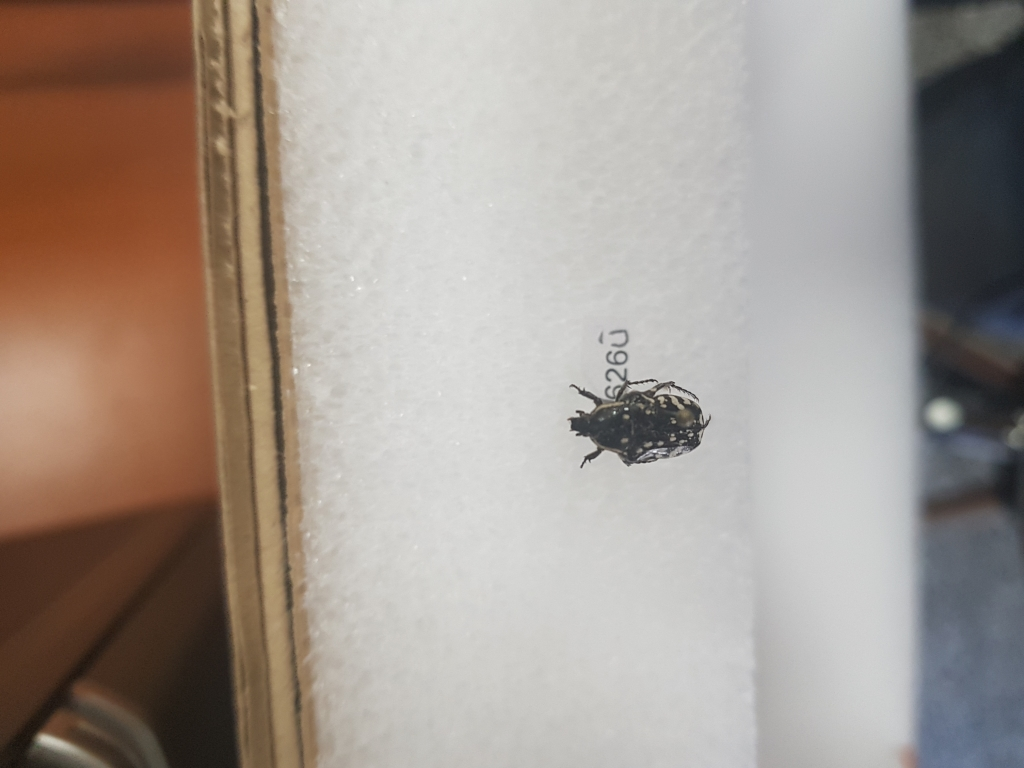Oxythyrea_funesta: (559, 372, 720, 474)
